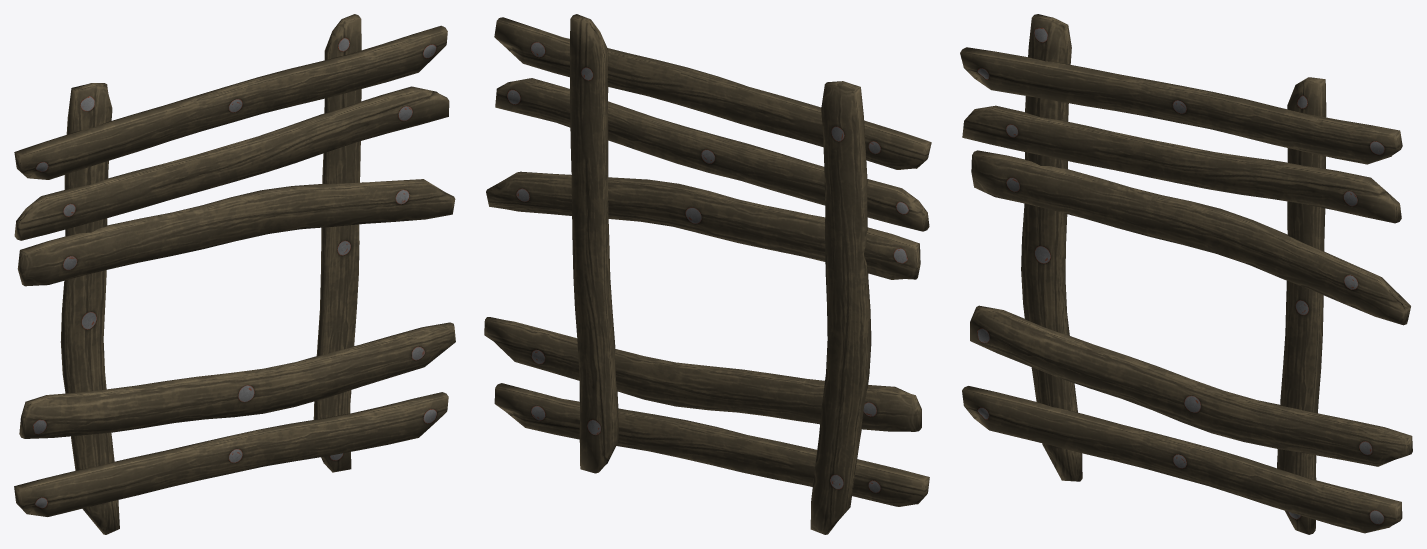
Rendered from wood_panel_D.fbx.
3 renders of one model, left to right at view 1: azimuth 30°, elevation 25°; view 2: azimuth 150°, elevation 25°; view 3: azimuth 330°, elevation 25°, orthographic.
Visible parts, largest first — view 1: wood_panel_D; view 2: wood_panel_D; view 3: wood_panel_D.
Part boxes in pixels (x1,y1,x2,y2): wood_panel_D: [14, 14, 455, 534]; wood_panel_D: [484, 14, 931, 534]; wood_panel_D: [960, 14, 1412, 534].
Size of the model in its own units: 408 by 405 by 25.11.
Materials: 1 (1 with a texture image).
